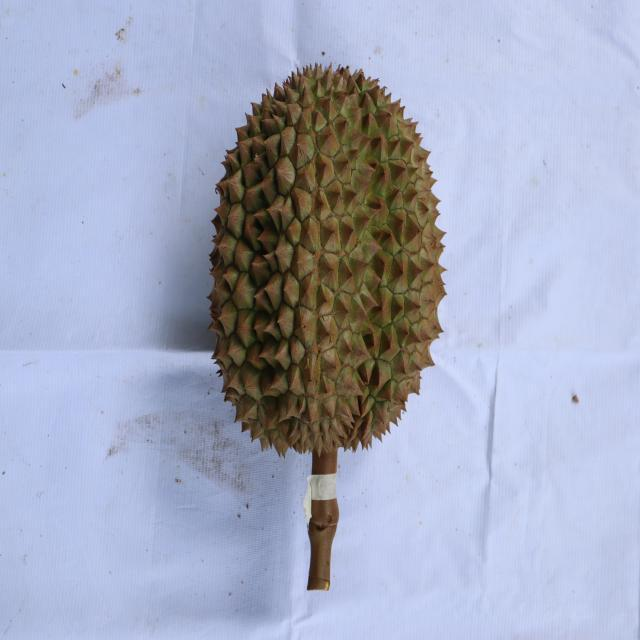mature: (204, 60, 450, 460)
